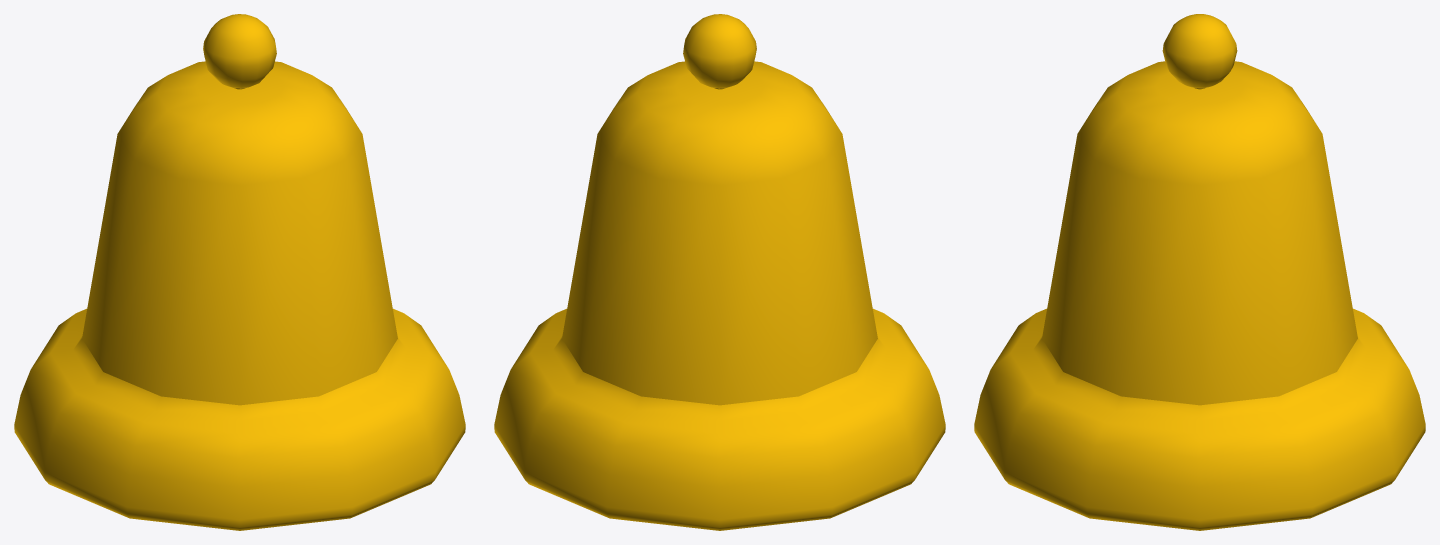
The model's file is Bell.fbx.
3 renders of one model, left to right at view 1: azimuth 30°, elevation 25°; view 2: azimuth 150°, elevation 25°; view 3: azimuth 270°, elevation 25°, orthographic.
Parts seen in each view (by area): view 1: Bell; view 2: Bell; view 3: Bell.
Part boxes in pixels (left/top/right/bottom): Bell: left=14, top=14, right=465, bottom=530; Bell: left=494, top=14, right=945, bottom=530; Bell: left=974, top=14, right=1425, bottom=530.
Bounding box in the file's own units: 0.2529 × 0.2878 × 0.2529.
